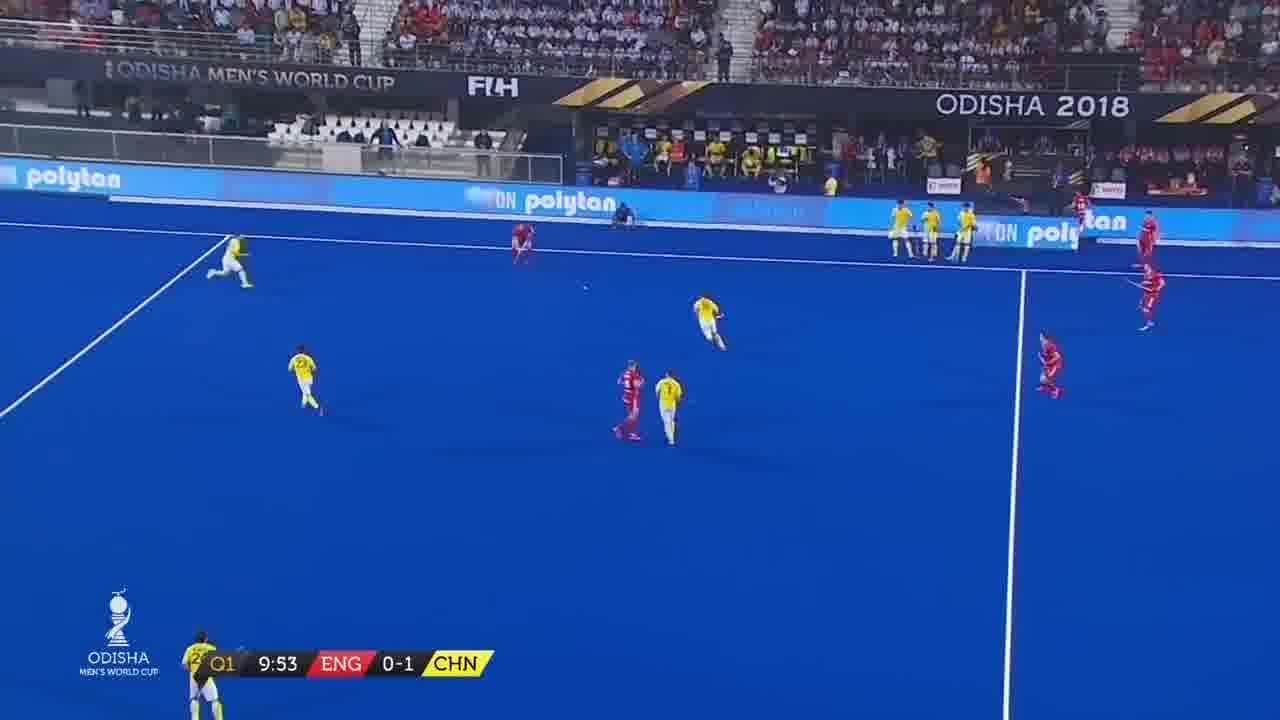ball: (580, 280, 596, 298)
